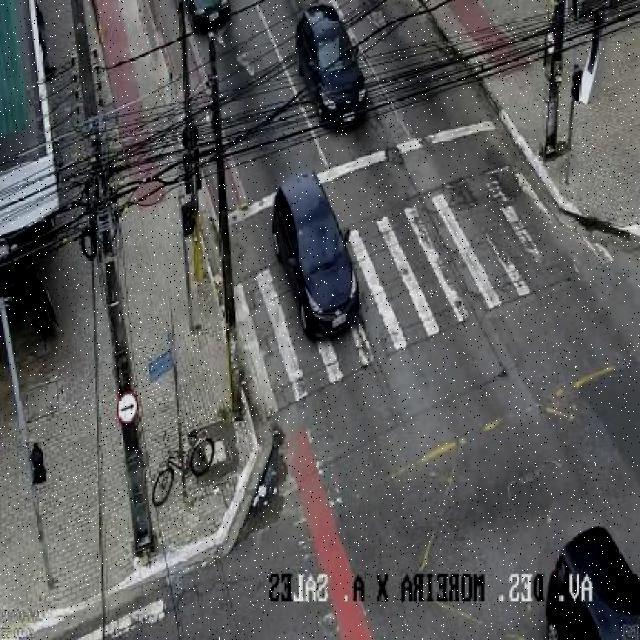Car: (268, 165, 372, 346), (540, 514, 640, 640), (289, 0, 372, 132)
Cycle: (147, 424, 223, 514)
